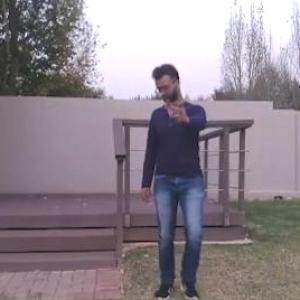takeoff-hand: (162, 88, 192, 126)
